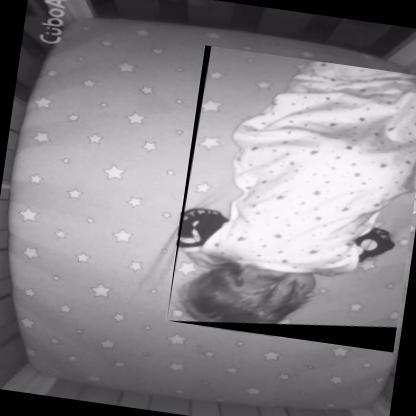baby: (177, 64, 415, 323)
